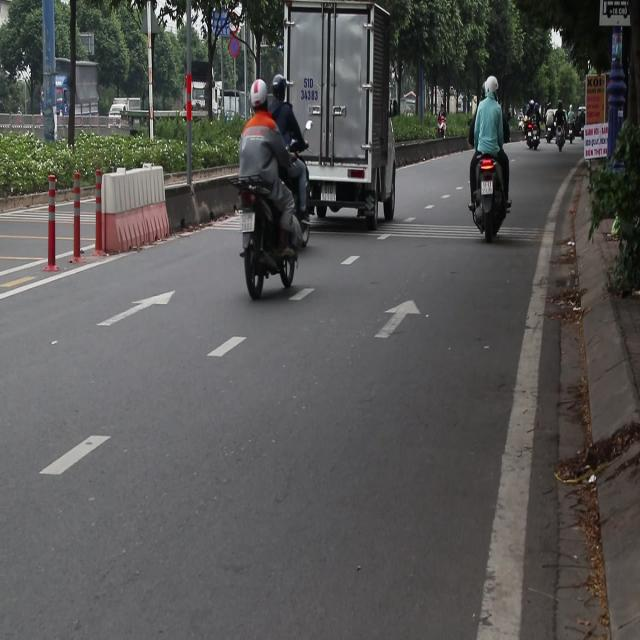motorbike: (235, 176, 305, 301), (469, 154, 510, 242), (436, 104, 448, 144), (524, 121, 538, 150), (554, 124, 566, 151), (568, 114, 576, 146), (542, 122, 552, 145)
truck: (272, 3, 396, 227), (32, 46, 110, 136), (109, 99, 150, 131)
